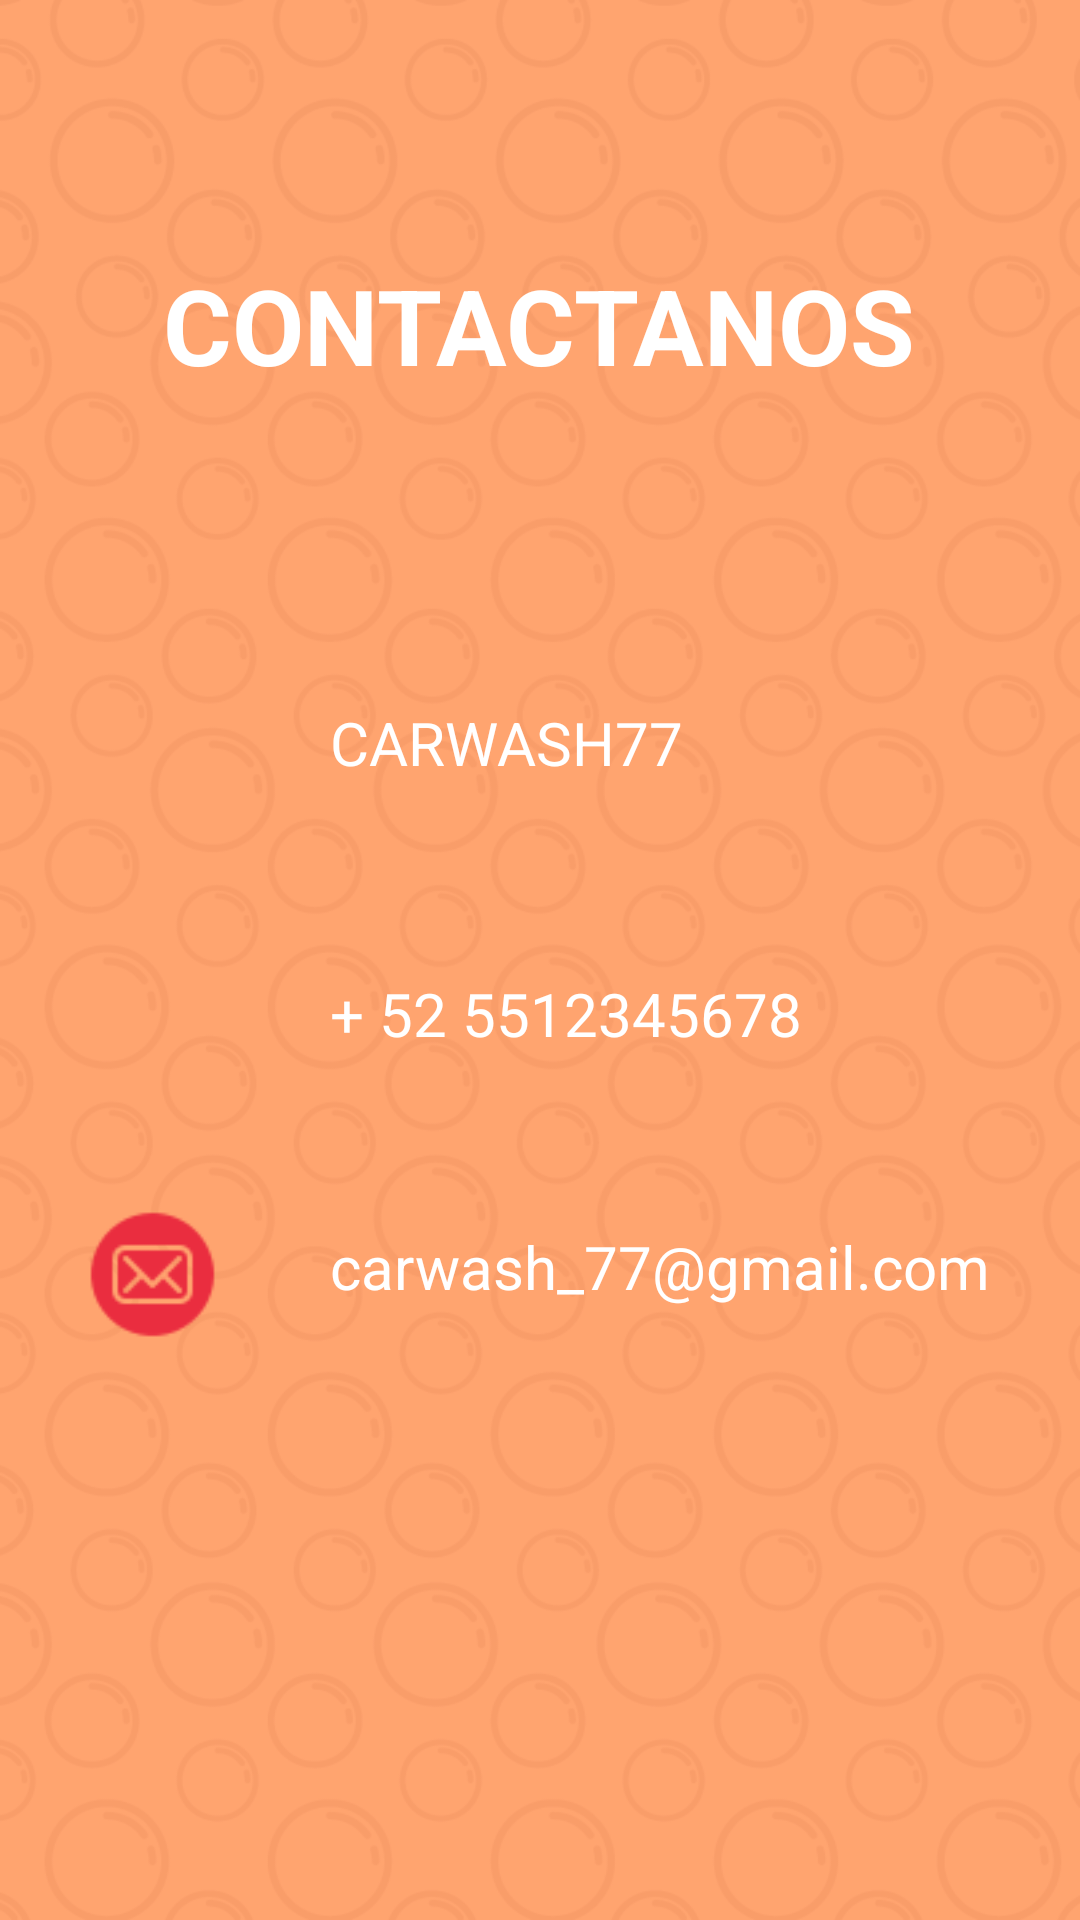

Icon click points for this 1080×1920 phone screenshot, format (x=x, y=y):
email: (x=152, y=1274)
